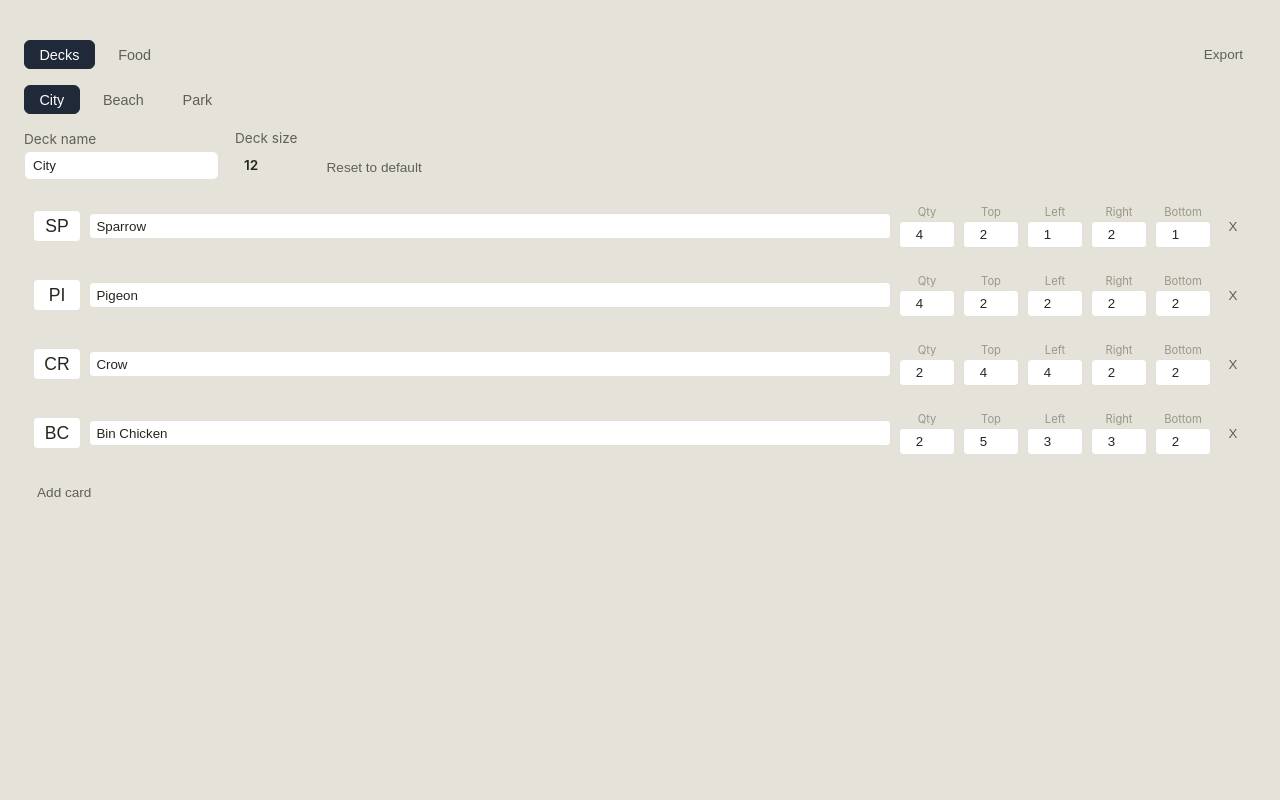
Test: ManagePage › opens an Export modal with the current decks and Food as JSON
Step 1. Click the button "Export" → (1223,55), box [1191,42,1256,67]
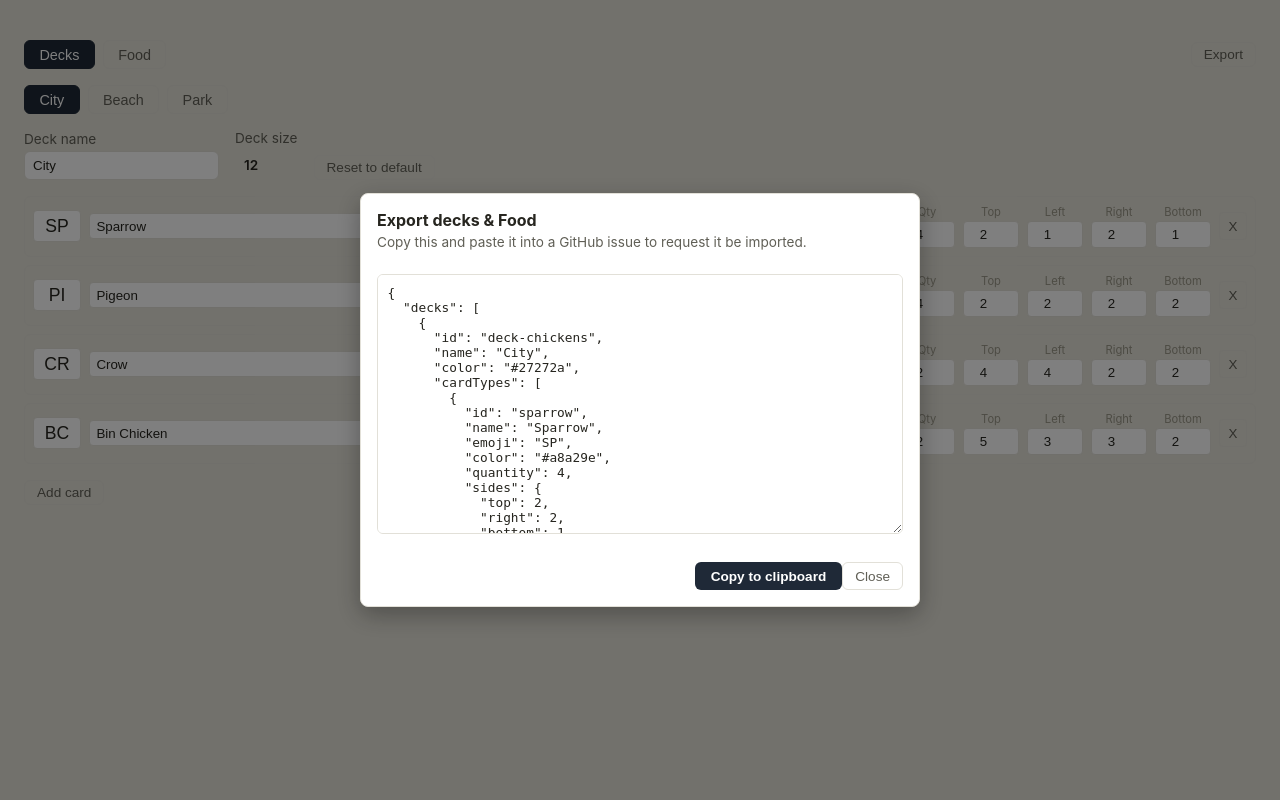
Step 2. Click the button "Close" → (873,576), box [842,562,903,590]
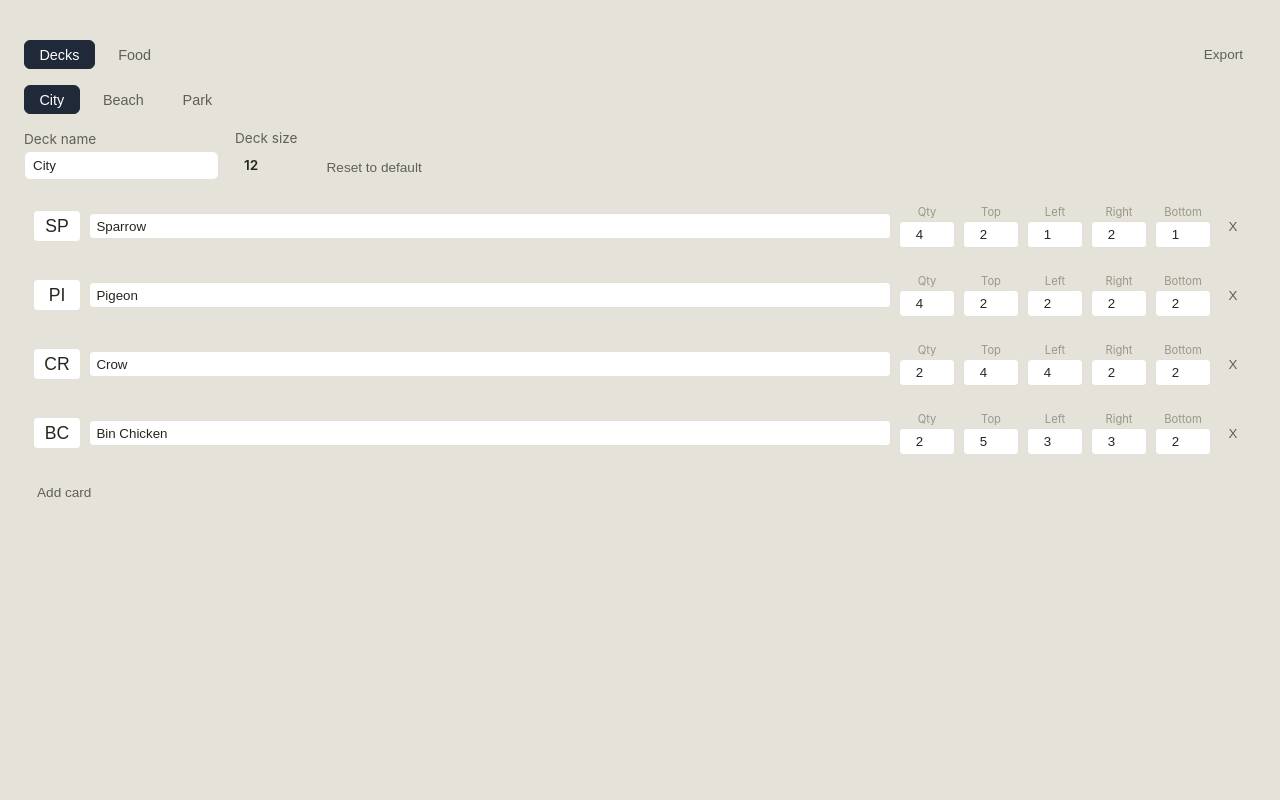
Expected: the dialog is gone
